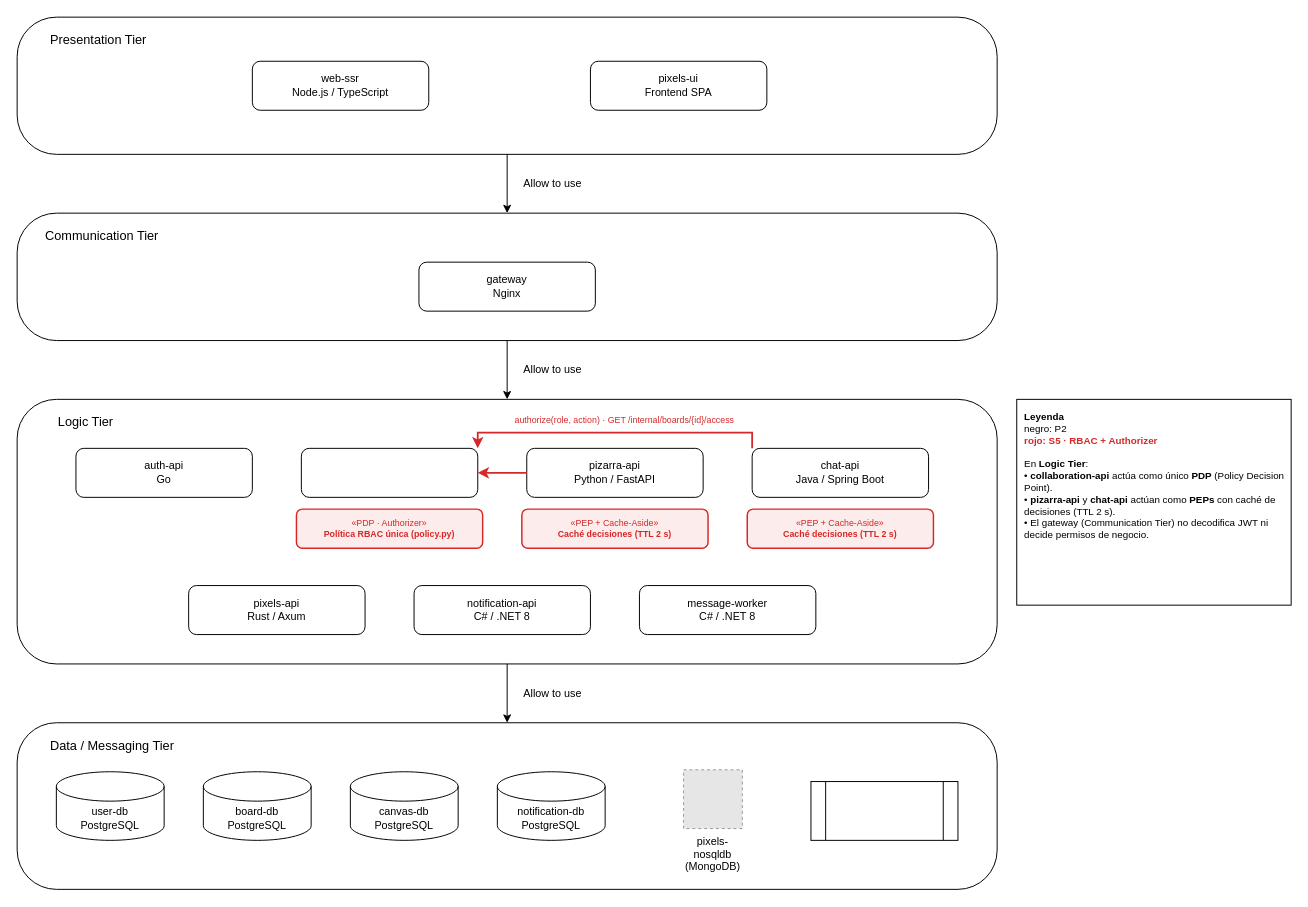
Image size: 1308x907. Some labels were removed from this diagram. Grey dashed boxes stand in for pictures. The shapes that lost their labels are listed below. From the top down, each one's centre as x and y in pixels, then its label:
At point (389, 472): "collaboration-api Python / FastAPI".
At point (884, 810): "rabbitmq RabbitMQ".
